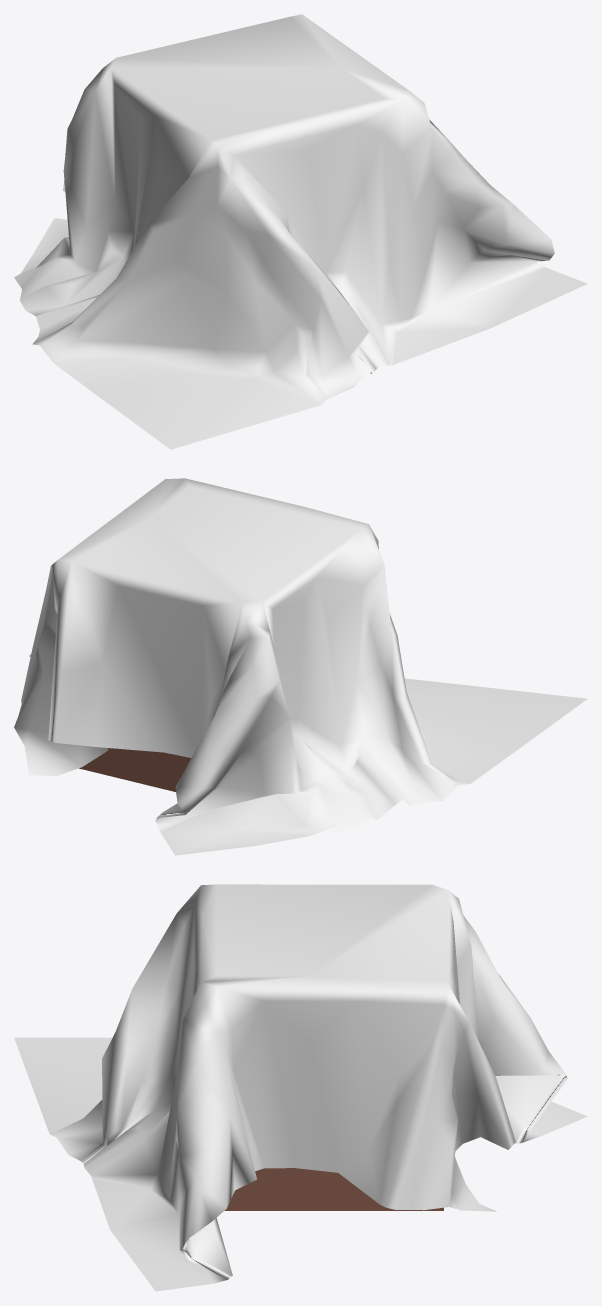
3 views of the same model, one above another, from view 1: azimuth 30°, elevation 25°; view 2: azimuth 150°, elevation 25°; view 3: azimuth 270°, elevation 25° (orthographic). The views are drawn at different scales.
Parts seen in each view (by area): view 1: box_001; view 2: box_001; view 3: box_001.
Boxes of the visible parts, <box> form: box_001: <box>14,14,587,449</box>; box_001: <box>14,478,587,855</box>; box_001: <box>14,884,587,1291</box>.
Size of the model in its own units: 3.46 by 1.49 by 3.31.
Materials: 1 (1 with a texture image).
